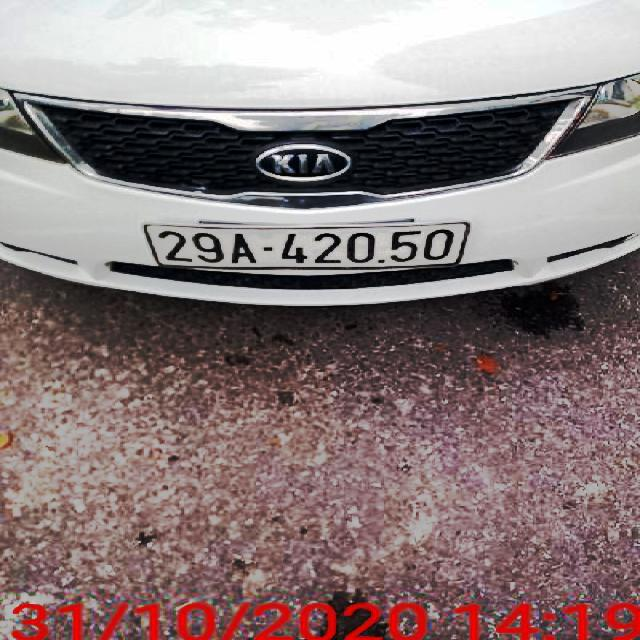license_plate: (145, 220, 474, 269)
